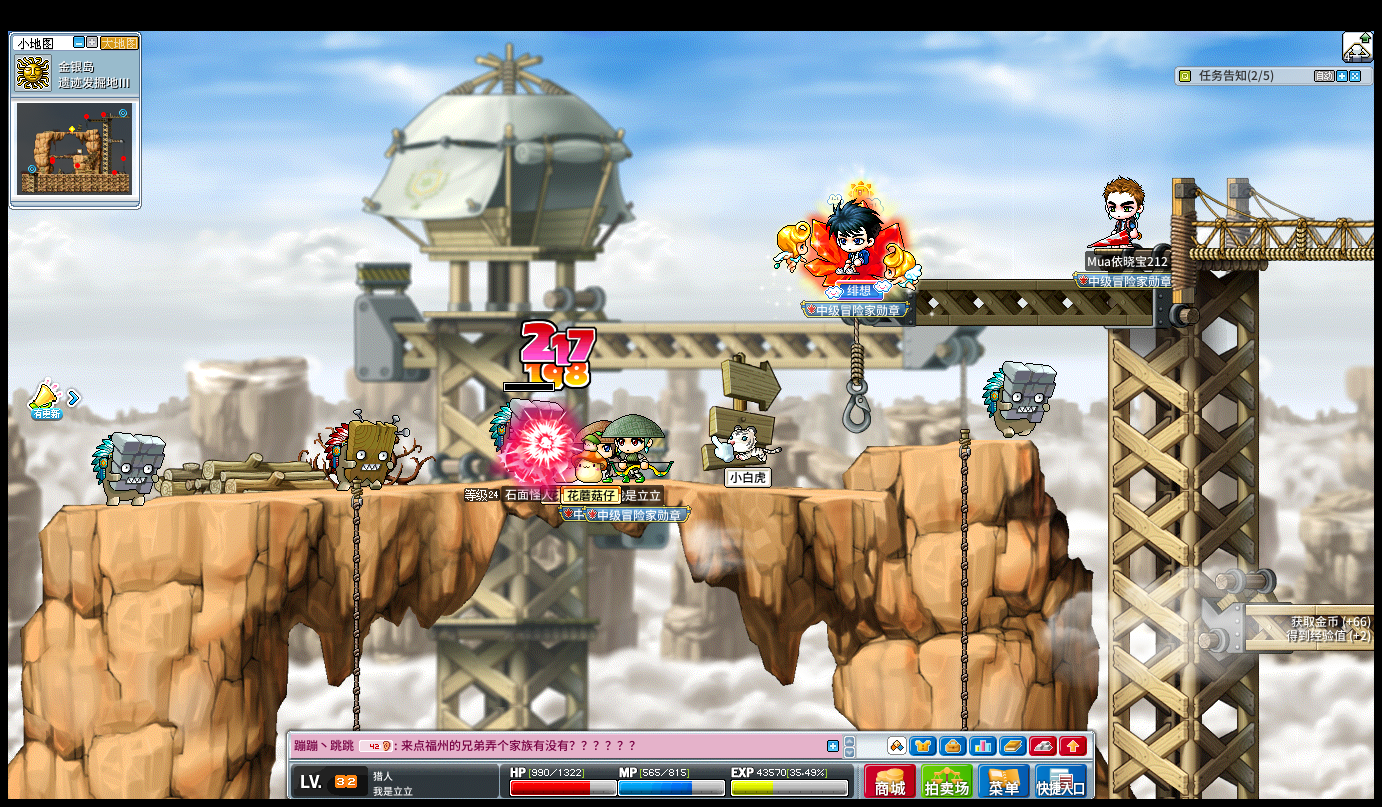floor: (54, 475, 859, 507), (76, 476, 935, 499), (76, 476, 933, 490), (1176, 211, 1374, 229), (864, 435, 1031, 451), (866, 439, 1027, 454), (1240, 600, 1373, 617)
monster: (325, 411, 408, 493), (488, 396, 565, 480), (981, 360, 1056, 440), (90, 431, 165, 509)
rope: (955, 425, 971, 769), (348, 475, 362, 807), (349, 479, 361, 735), (351, 481, 362, 678)
